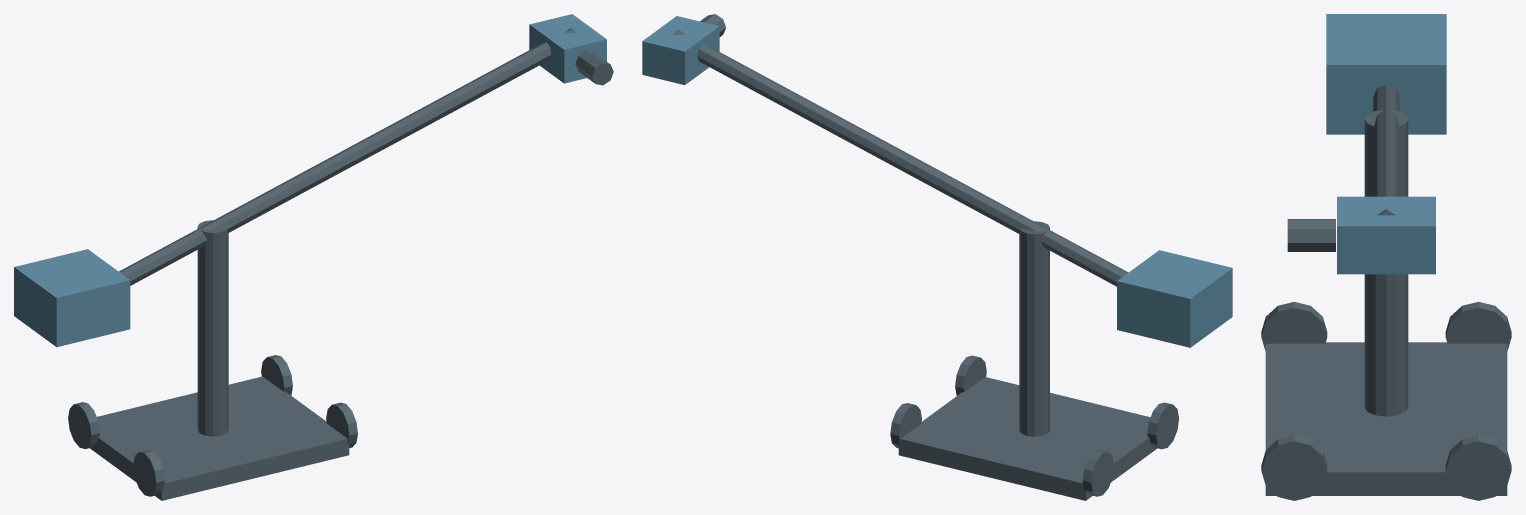
Rendered from american-football-stadium-kit-camera-crane-470b66eb.glb.
3 renders of one model, left to right at view 1: azimuth 30°, elevation 25°; view 2: azimuth 150°, elevation 25°; view 3: azimuth 270°, elevation 25°, orthographic. The views are drawn at different scales.
Parts seen in each view (by area): view 1: camera-crane, crane-boom, wheel--0.72-0.42, wheel--0.72--0.42, wheel-0.72-0.42, wheel-0.72--0.42; view 2: camera-crane, crane-boom, wheel--0.72--0.42, wheel--0.72-0.42, wheel-0.72--0.42, wheel-0.72-0.42; view 3: camera-crane, wheel-0.72--0.42, wheel-0.72-0.42, crane-boom, wheel--0.72--0.42, wheel--0.72-0.42.
Part boxes in pixels (left/top/right/bottom): camera-crane: left=14, top=14, right=613, bottom=500; crane-boom: left=119, top=28, right=576, bottom=285; wheel--0.72-0.42: left=133, top=449, right=164, bottom=496; wheel--0.72--0.42: left=68, top=402, right=99, bottom=448; wheel-0.72-0.42: left=326, top=402, right=357, bottom=447; wheel-0.72--0.42: left=261, top=355, right=292, bottom=395; camera-crane: left=642, top=14, right=1232, bottom=500; crane-boom: left=672, top=30, right=1128, bottom=286; wheel--0.72--0.42: left=1082, top=450, right=1114, bottom=496; wheel--0.72-0.42: left=1147, top=402, right=1178, bottom=449; wheel-0.72--0.42: left=890, top=403, right=921, bottom=448; wheel-0.72-0.42: left=955, top=355, right=986, bottom=395; camera-crane: left=1265, top=14, right=1507, bottom=495; wheel-0.72--0.42: left=1445, top=435, right=1511, bottom=500; wheel-0.72-0.42: left=1261, top=435, right=1327, bottom=500; crane-boom: left=1373, top=84, right=1399, bottom=215; wheel--0.72--0.42: left=1445, top=301, right=1511, bottom=350; wheel--0.72-0.42: left=1261, top=301, right=1327, bottom=350.
Bounding box in the file's own units: 4.13 × 2.36 × 1.14.
